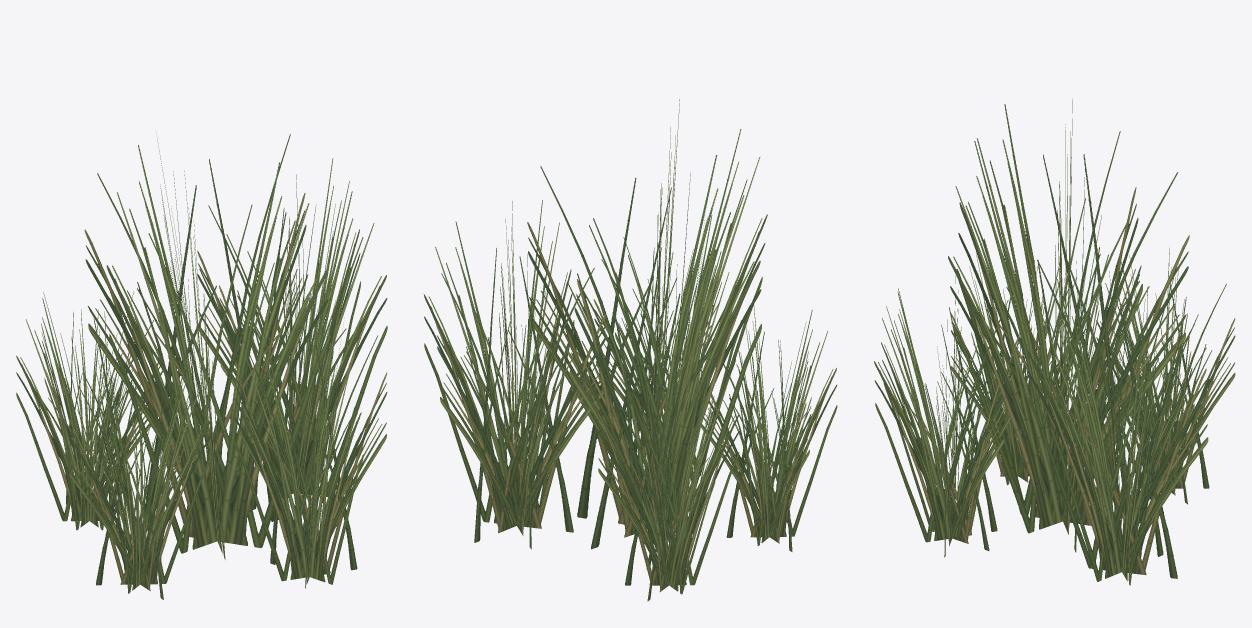
The model's file is SM_Grass_Clump.fbx.
The picture shows the model from 3 angles, left to right: view 1: azimuth 30°, elevation 25°; view 2: azimuth 150°, elevation 25°; view 3: azimuth 270°, elevation 25°; orthographic projection. The views are drawn at different scales.
Parts seen in each view (by area): view 1: SM_Grass_Clump_LOD0; view 2: SM_Grass_Clump_LOD0; view 3: SM_Grass_Clump_LOD0.
Boxes of the visible parts, x1,y1,x2,y2 form: SM_Grass_Clump_LOD0: (16,134,387,599); SM_Grass_Clump_LOD0: (424,99,837,601); SM_Grass_Clump_LOD0: (874,98,1235,585).
Size of the model in its own units: 1.05 by 1.37 by 1.
